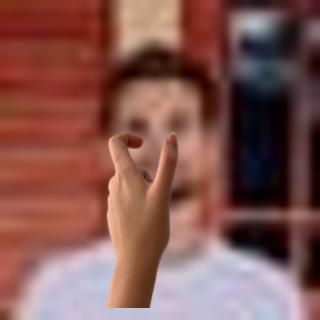Irritated: (98, 127, 187, 287)
